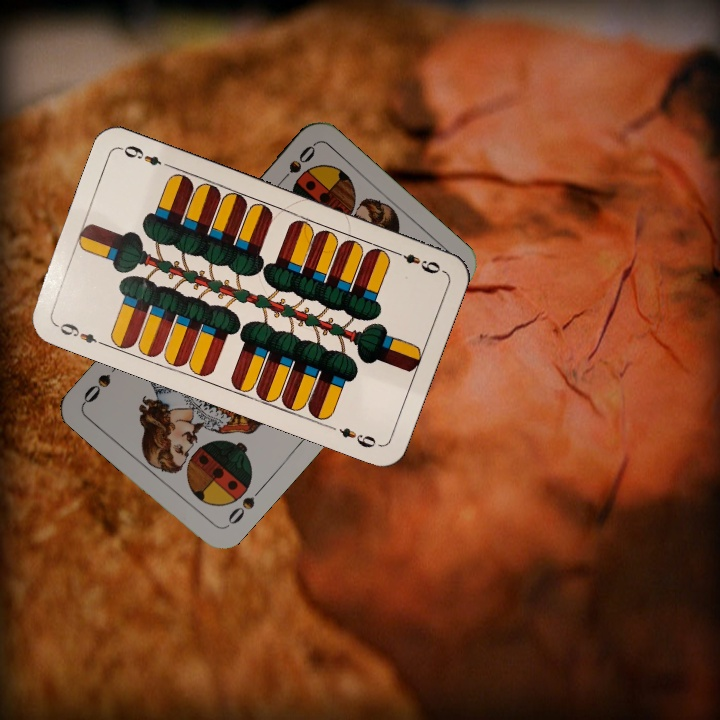E9: (389, 246, 445, 277), (52, 319, 108, 349)
SO: (273, 141, 319, 189), (220, 483, 265, 531)
